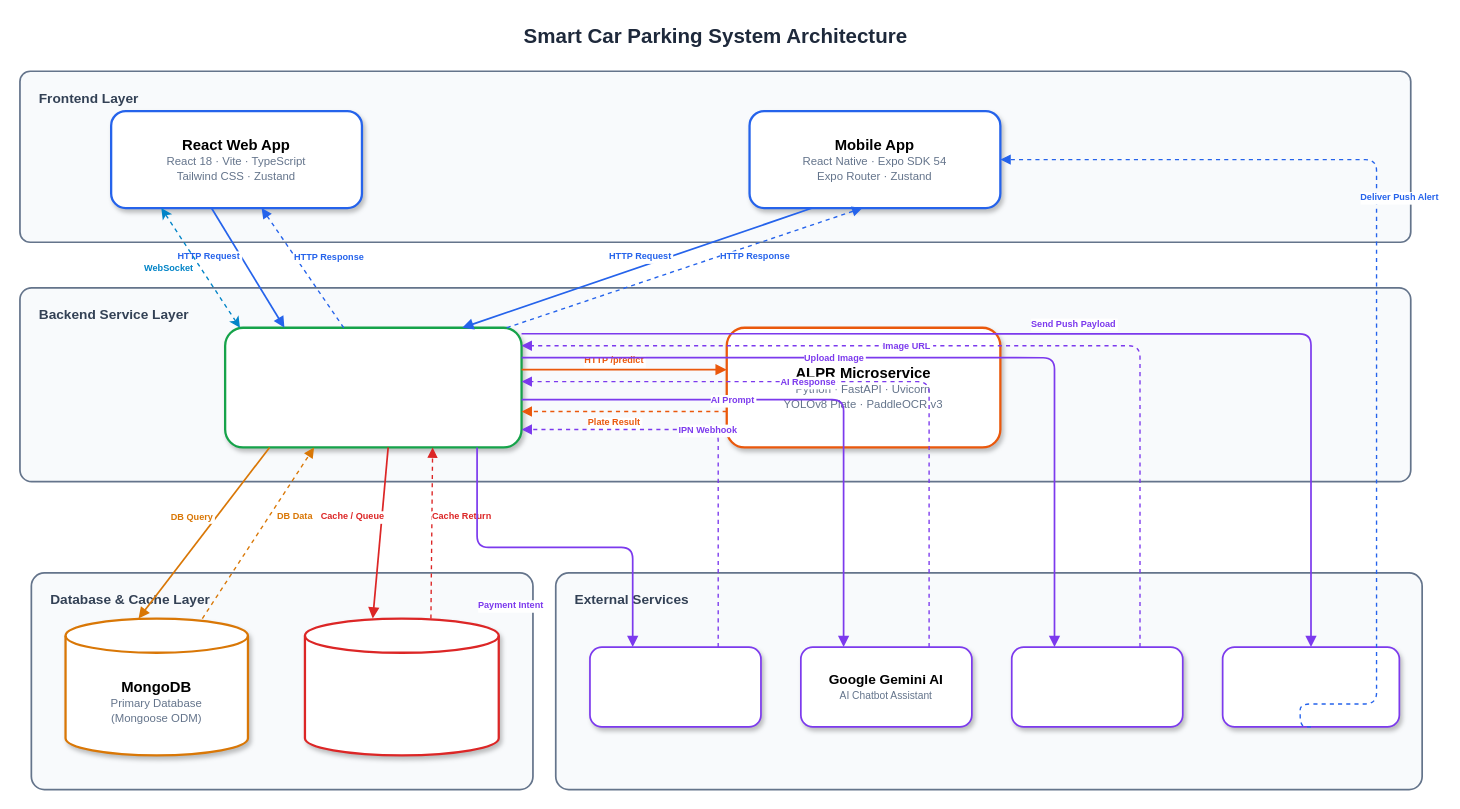
This 1460x809 diagram has some shape labels left out. The centre of each missing label's shape, as x and y in pixels:
Cloudinary CDN Image Cloud Storage: the point at 1098,688
Core Backend Server Node.js · Express · TypeScript JWT Auth · Socket.IO · BullMQ: the point at 374,388
Expo Push Service Push Notifications: the point at 1312,688
MoMo Payment Payment Gateway: the point at 676,688
Redis Cache · Rate Limit BullMQ · Socket.IO Pub/Sub: the point at 402,688
